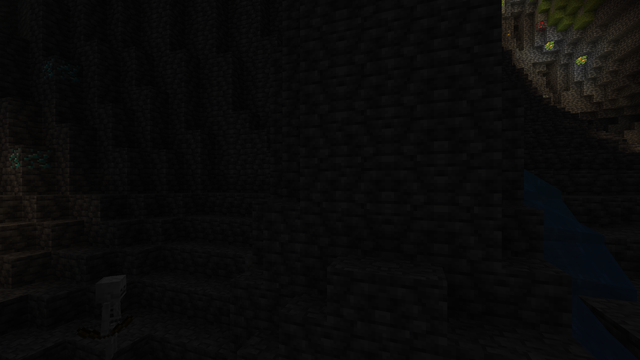squelettes: (90, 274, 130, 359)
